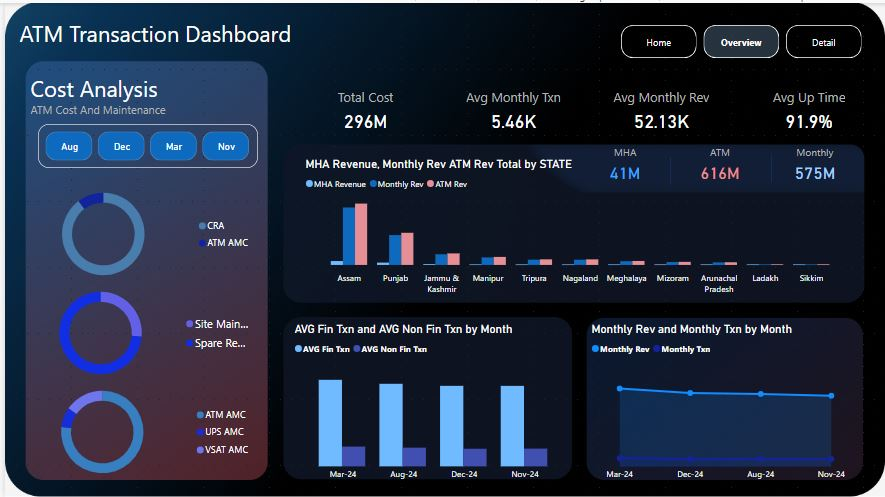

Layout of this report page (visuals, bound fields, positions):
{"tool":"powerbi","page":{"name":"Overview","canvas":[1280,720],"ordinal":1},"visuals":[{"type":"donutChart","title":"CRA and AMC","fields":{"Y":["Sum(ATM DETAILS.CRA)","Sum(ATM DETAILS.ATM AMC)"]},"box":[0,256,368,160],"z":0},{"type":"donutChart","fields":{"Y":["Sum(ATM DETAILS.Site Maint (Non Asset))","Sum(ATM DETAILS.Spare Rep.(UPS))"]},"box":[16,400,352,160],"z":1000},{"type":"donutChart","title":"ATM, UPS, VSAT","fields":{"Y":["Sum(ATM DETAILS.ATM AMC)","Sum(ATM DETAILS.UPS AMC)","Sum(ATM DETAILS.VSAT AMC)"]},"box":[0,544,368,160],"z":2000},{"type":"clusteredColumnChart","title":"MHA Revenue, Monthly Rev ATM Rev Total by STATE","fields":{"Y":["Sum(ATM DETAILS.MHA Revenue)","Sum(ATM DETAILS.Monthly Rev)","Sum(ATM DETAILS.ATM Rev Total)"],"Category":["ATM DETAILS.STATE"]},"box":[432,224,800,208],"z":3000},{"type":"clusteredColumnChart","title":"AVG Fin Txn and AVG Non Fin Txn by Month","fields":{"Category":["ATM DETAILS.Month_Yr"],"Y":["Sum(ATM DETAILS.AVG Fin Txn)","Sum(ATM DETAILS.AVG Non Fin Txn)"]},"box":[416,464,416,240],"z":4000},{"type":"areaChart","title":"Monthly Rev and Monthly Txn by Month","fields":{"Category":["ATM DETAILS.Month_Yr"],"Y":["Sum(ATM DETAILS.Monthly Rev)","Sum(ATM DETAILS.Monthly Txn)"]},"box":[848,464,400,240],"z":5000},{"type":"advancedSlicerVisual","fields":{"Values":["ATM DETAILS.Short_Month"]},"box":[48,176,320,64],"z":6000},{"type":"textbox","box":[32,96,352,80],"z":7000},{"type":"cardVisual","fields":{"Data":["Sum(ATM DETAILS. Total Cost  )","Avg(ATM DETAILS.Monthly Txn)","Avg(ATM DETAILS.Monthly Rev)","Avg(ATM DETAILS.Up Time)"]},"box":[416,96,864,112],"z":8000},{"type":"cardVisual","title":"MHA Revenue, Monthly Rev ATM Rev Total by STATE","fields":{"Data":["Sum(ATM DETAILS.MHA Revenue)","Sum(ATM DETAILS.ATM Rev Total)","Sum(ATM DETAILS.Monthly Rev)"]},"box":[832,176,416,96],"z":9000},{"type":"textbox","box":[16,16,624,80],"z":10000},{"type":"pageNavigator","box":[896,32,352,48],"z":11000}]}

Visuals, with their boxes in screenshot pixels (x1, y1, x2, y2), scaled from the page's 1280x720 canvas onto the 885x497 screenshot:
"CRA and AMC" donutChart: l=0, t=177, r=254, b=287
donutChart - Sum(ATM DETAILS.Site Maint (Non Asset)) x Sum(ATM DETAILS.Spare Rep.(UPS)): l=11, t=276, r=254, b=387
"ATM, UPS, VSAT" donutChart: l=0, t=376, r=254, b=486
"MHA Revenue, Monthly Rev ATM Rev Total by STATE" clusteredColumnChart: l=299, t=155, r=852, b=298
"AVG Fin Txn and AVG Non Fin Txn by Month" clusteredColumnChart: l=288, t=320, r=575, b=486
"Monthly Rev and Monthly Txn by Month" areaChart: l=586, t=320, r=863, b=486
advancedSlicerVisual - ATM DETAILS.Short_Month: l=33, t=121, r=254, b=166
textbox: l=22, t=66, r=266, b=121
cardVisual - Sum(ATM DETAILS. Total Cost  ) x Avg(ATM DETAILS.Monthly Txn): l=288, t=66, r=884, b=144
"MHA Revenue, Monthly Rev ATM Rev Total by STATE" cardVisual: l=575, t=121, r=863, b=188
textbox: l=11, t=11, r=442, b=66
pageNavigator: l=620, t=22, r=863, b=55
